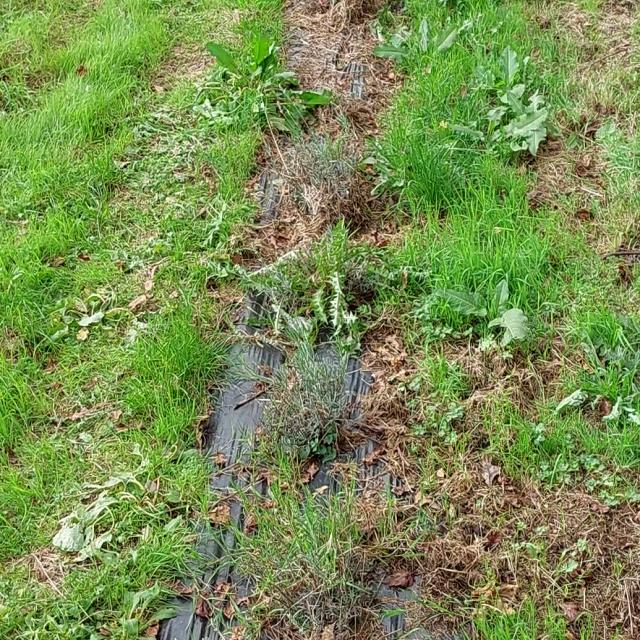organic waste: (198, 12, 331, 118), (423, 273, 536, 373), (46, 459, 150, 553), (447, 89, 563, 167), (365, 0, 463, 84), (48, 275, 134, 352), (460, 41, 539, 105)
